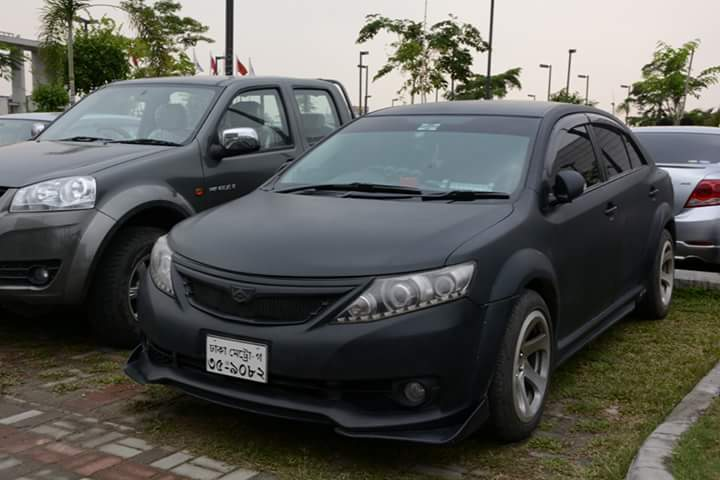registration_plate: (204, 334, 268, 384)
